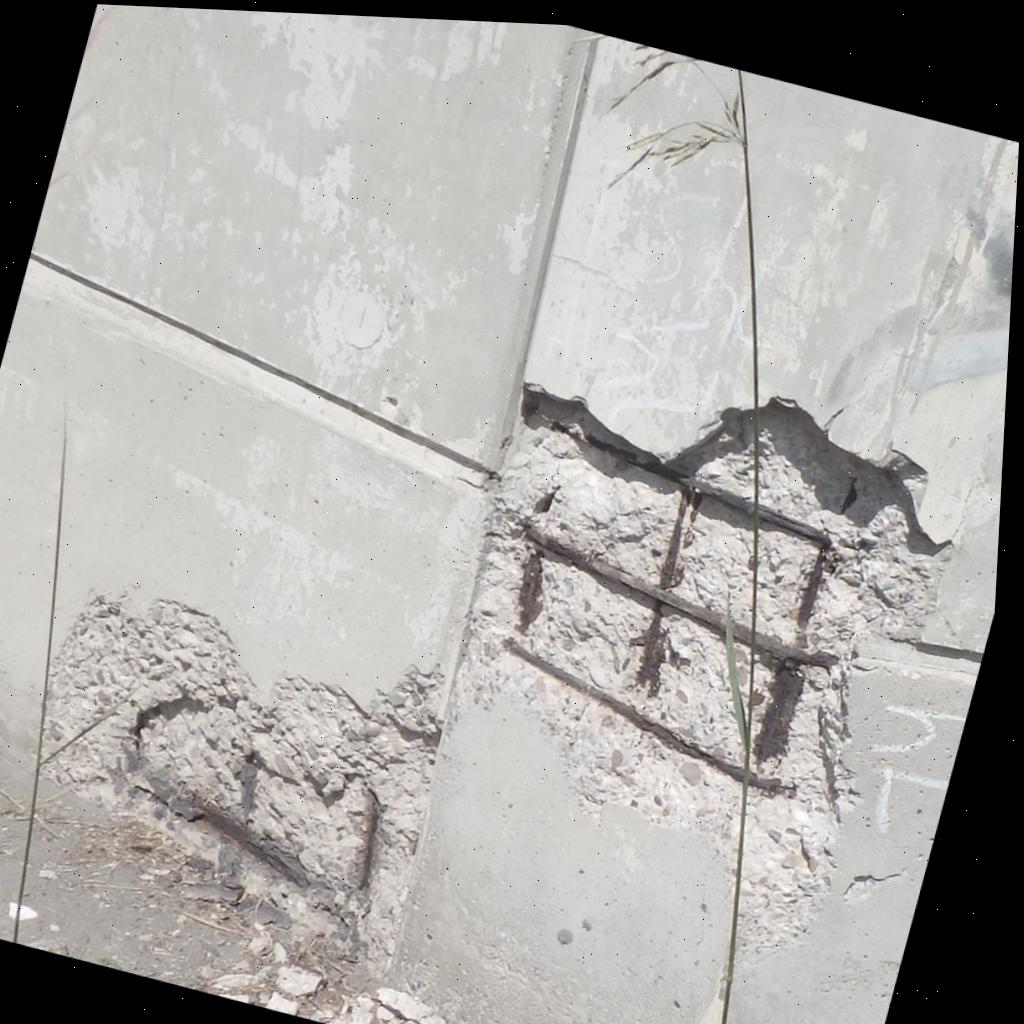exposed_rebar: (518, 530, 836, 760), (506, 642, 796, 797), (549, 418, 751, 583), (147, 758, 347, 914), (761, 506, 830, 649), (357, 788, 381, 890)
spalling: (46, 596, 439, 946), (456, 393, 751, 857), (737, 399, 944, 955)
